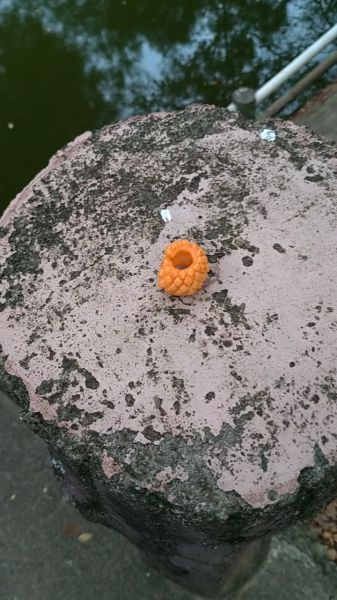eggs: (146, 235, 213, 298)
